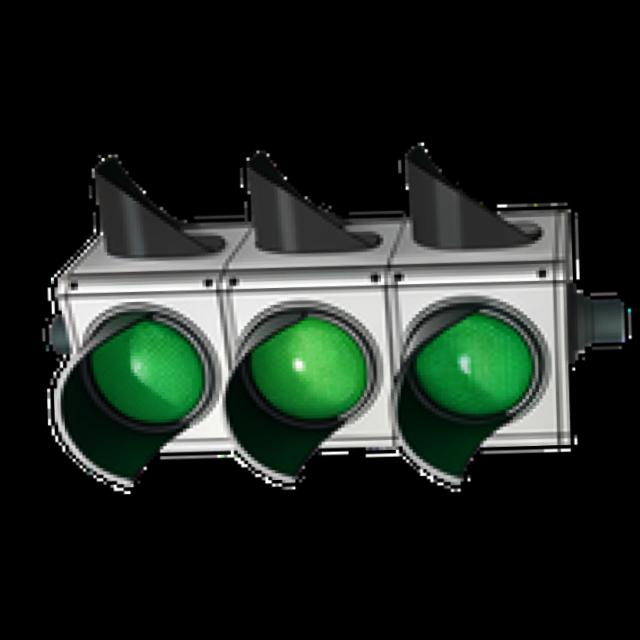green_light: (37, 252, 238, 513), (383, 274, 572, 480), (227, 281, 392, 469)
